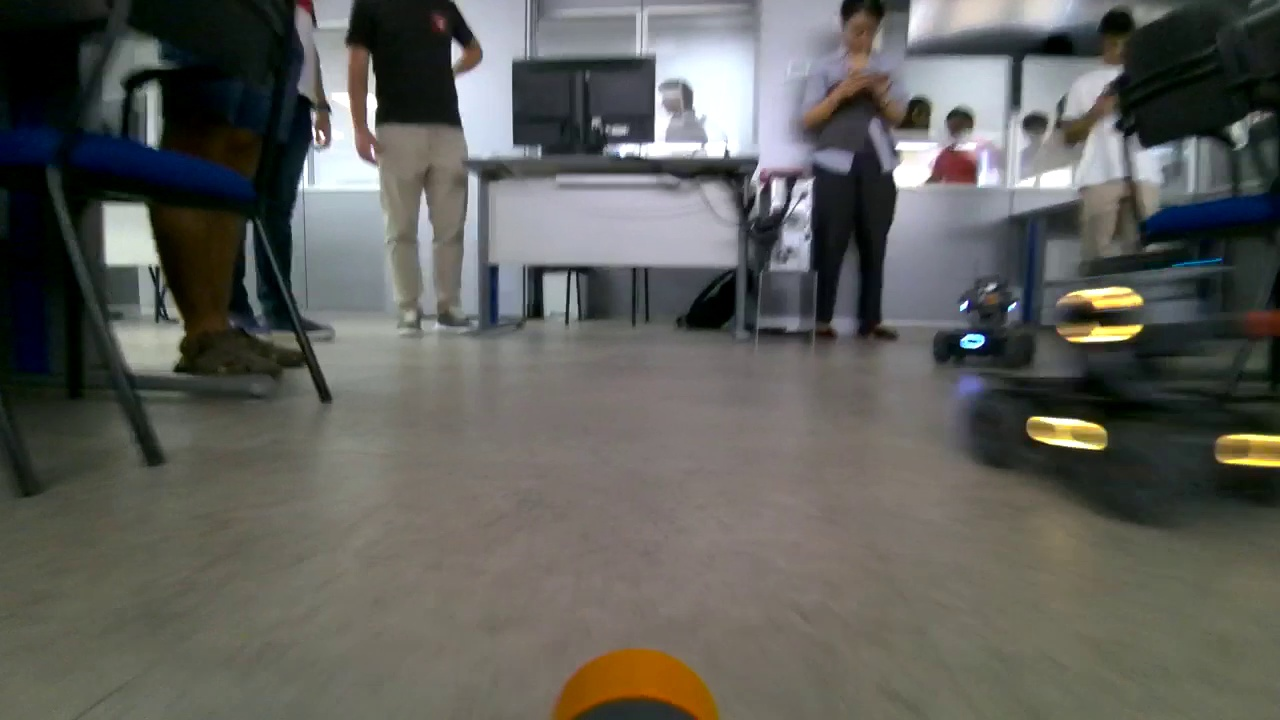robot: (968, 249, 1280, 528), (929, 256, 1049, 371)
